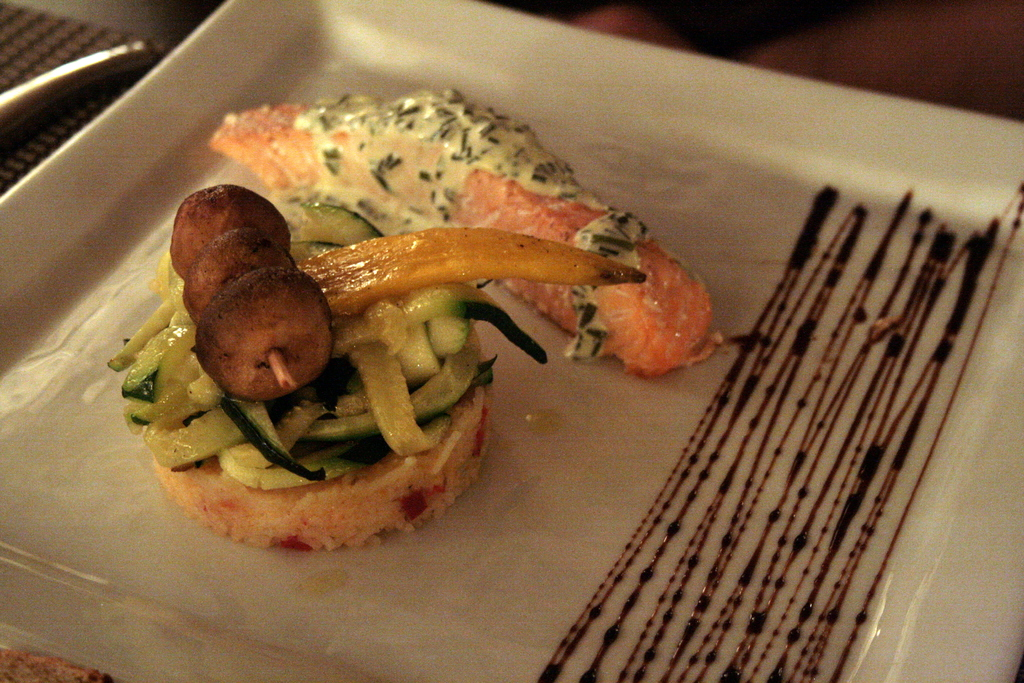sushi: (97, 109, 653, 576)
